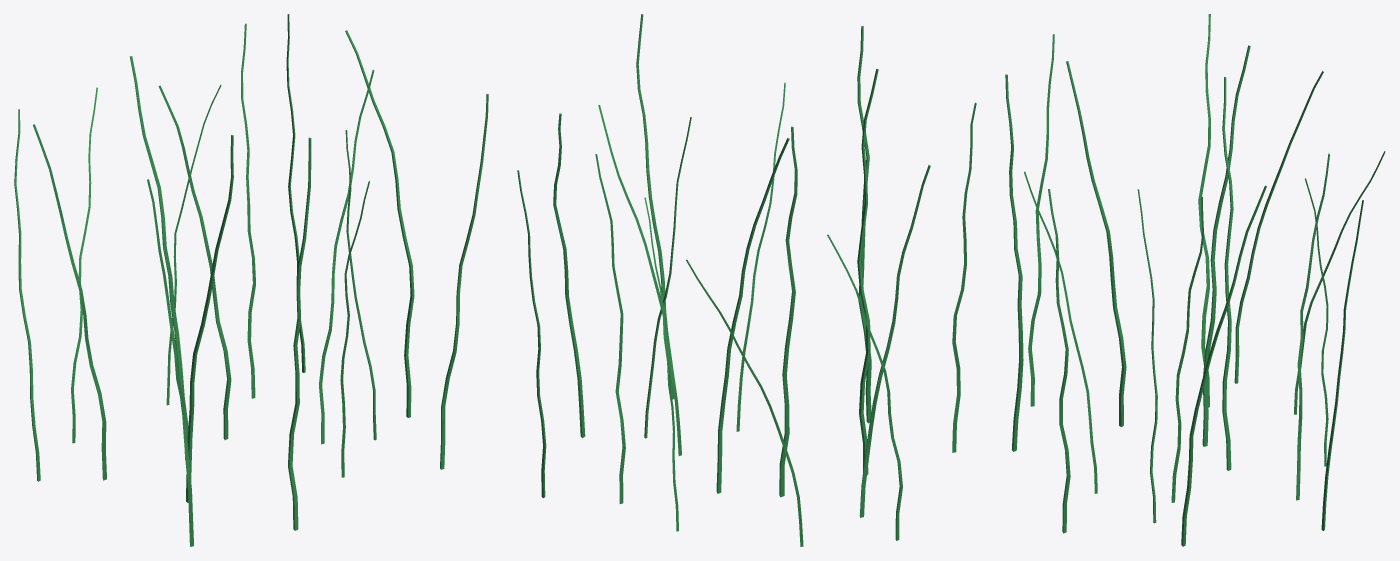
The model's file is plant_lilly_pad_roots.fbx.
3 renders of one model, left to right at view 1: azimuth 30°, elevation 25°; view 2: azimuth 150°, elevation 25°; view 3: azimuth 270°, elevation 25°, orthographic. The views are drawn at different scales.
Parts seen in each view (by area): view 1: plant_lilly_pad_root_C, plant_lilly_pad_root_I, plant_lilly_pad_root_D, plant_lilly_pad_root_G, plant_lilly_pad_root_A, plant_lilly_pad_root_F, plant_lilly_pad_root_E, plant_lilly_pad_root_B, plant_lilly_pad_root_H, plant_lilly_pad_root_L, plant_lilly_pad_root_K, plant_lilly_pad_root_M (+4 smaller); view 2: plant_lilly_pad_root_A, plant_lilly_pad_root_D, plant_lilly_pad_root_F, plant_lilly_pad_root_B, plant_lilly_pad_root_I, plant_lilly_pad_root_E, plant_lilly_pad_root_H, plant_lilly_pad_root_C, plant_lilly_pad_root_G, plant_lilly_pad_root_K, plant_lilly_pad_root_J, plant_lilly_pad_root_L (+4 smaller); view 3: plant_lilly_pad_root_A, plant_lilly_pad_root_C, plant_lilly_pad_root_D, plant_lilly_pad_root_F, plant_lilly_pad_root_I, plant_lilly_pad_root_E, plant_lilly_pad_root_G, plant_lilly_pad_root_B, plant_lilly_pad_root_H, plant_lilly_pad_root_L, plant_lilly_pad_root_J, plant_lilly_pad_root_K (+4 smaller).
Part boxes in pixels (x1=…): plant_lilly_pad_root_C: x1=288, y1=137, x2=311, y2=530; plant_lilly_pad_root_I: x1=345, y1=30, x2=414, y2=417; plant_lilly_pad_root_D: x1=186, y1=135, x2=233, y2=502; plant_lilly_pad_root_G: x1=440, y1=94, x2=488, y2=469; plant_lilly_pad_root_A: x1=129, y1=56, x2=188, y2=459; plant_lilly_pad_root_F: x1=158, y1=85, x2=231, y2=439; plant_lilly_pad_root_E: x1=147, y1=179, x2=193, y2=546; plant_lilly_pad_root_B: x1=33, y1=124, x2=106, y2=480; plant_lilly_pad_root_H: x1=241, y1=23, x2=255, y2=398; plant_lilly_pad_root_L: x1=14, y1=109, x2=40, y2=481; plant_lilly_pad_root_K: x1=319, y1=70, x2=374, y2=444; plant_lilly_pad_root_M: x1=71, y1=87, x2=97, y2=443; plant_lilly_pad_root_A: x1=779, y1=126, x2=797, y2=497; plant_lilly_pad_root_D: x1=857, y1=69, x2=878, y2=474; plant_lilly_pad_root_F: x1=716, y1=138, x2=789, y2=493; plant_lilly_pad_root_B: x1=859, y1=165, x2=930, y2=517; plant_lilly_pad_root_I: x1=553, y1=113, x2=585, y2=437; plant_lilly_pad_root_E: x1=952, y1=102, x2=976, y2=452; plant_lilly_pad_root_H: x1=595, y1=154, x2=625, y2=503; plant_lilly_pad_root_C: x1=857, y1=26, x2=871, y2=423; plant_lilly_pad_root_G: x1=636, y1=14, x2=674, y2=399; plant_lilly_pad_root_K: x1=598, y1=105, x2=681, y2=455; plant_lilly_pad_root_J: x1=517, y1=170, x2=546, y2=498; plant_lilly_pad_root_L: x1=827, y1=234, x2=902, y2=540; plant_lilly_pad_root_A: x1=1202, y1=45, x2=1250, y2=446; plant_lilly_pad_root_C: x1=1005, y1=74, x2=1023, y2=451; plant_lilly_pad_root_D: x1=1066, y1=61, x2=1126, y2=427; plant_lilly_pad_root_F: x1=1222, y1=77, x2=1233, y2=470; plant_lilly_pad_root_I: x1=1181, y1=185, x2=1266, y2=546; plant_lilly_pad_root_E: x1=1028, y1=34, x2=1054, y2=406; plant_lilly_pad_root_G: x1=1048, y1=189, x2=1070, y2=533; plant_lilly_pad_root_B: x1=1198, y1=14, x2=1210, y2=407; plant_lilly_pad_root_H: x1=1296, y1=153, x2=1329, y2=500; plant_lilly_pad_root_L: x1=1234, y1=71, x2=1323, y2=383; plant_lilly_pad_root_J: x1=1321, y1=200, x2=1363, y2=530; plant_lilly_pad_root_K: x1=1171, y1=196, x2=1203, y2=502.
Bounding box in the file's own units: 285 × 288 × 258.
